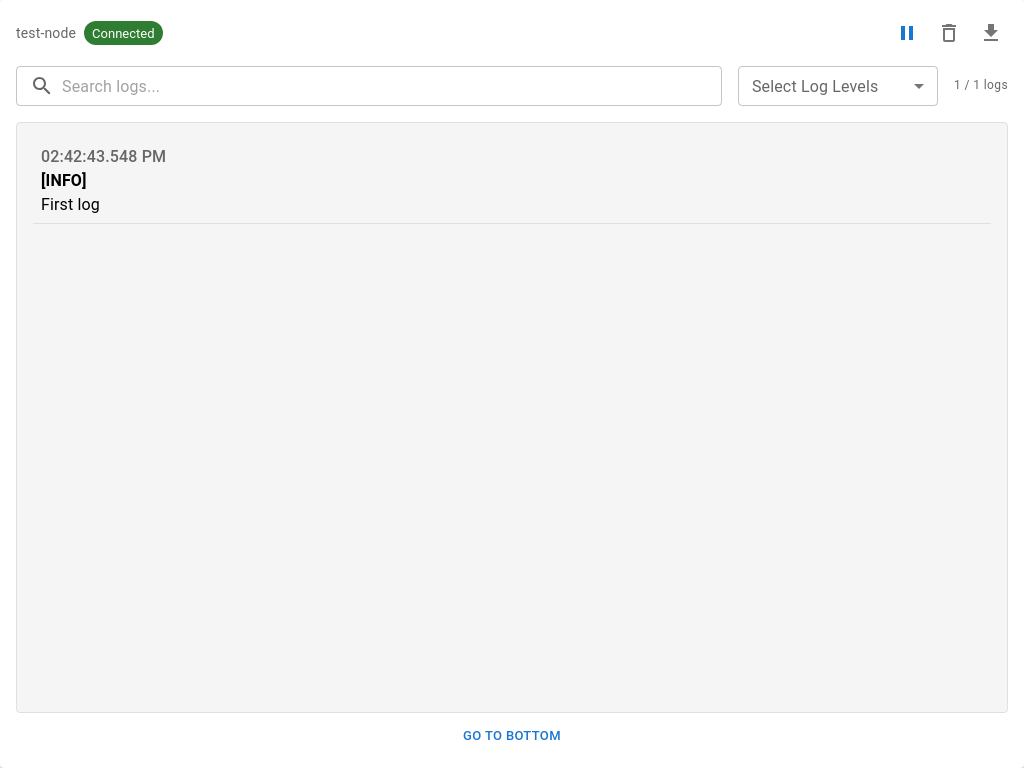
Scenario: LogsViewer › Log streaming and pause/resume › pauses and resumes streaming - covers abort during reading
The width and height of the screenshot is (1024, 768).
Expected: the text "First log" is shown, [41,195,100,214]
Click the button named "pause" at (907,33), box [890,16,924,50]
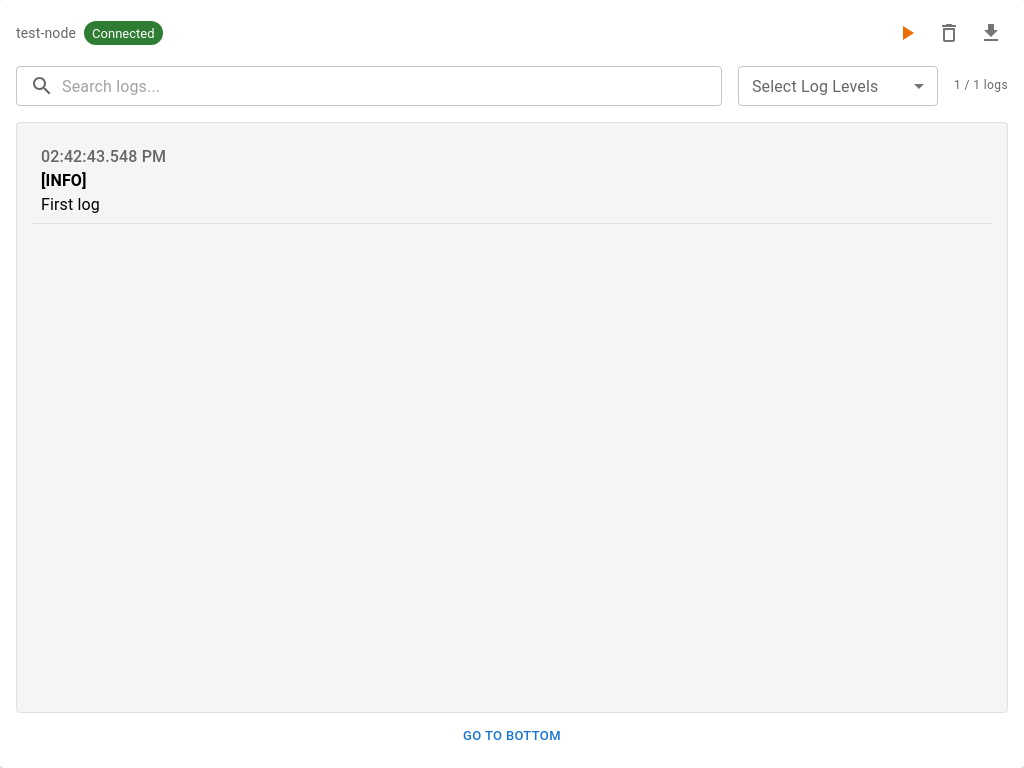
Expected: the button named "resume" is shown
Click the button named "resume" at (907,33), box [890,16,924,50]
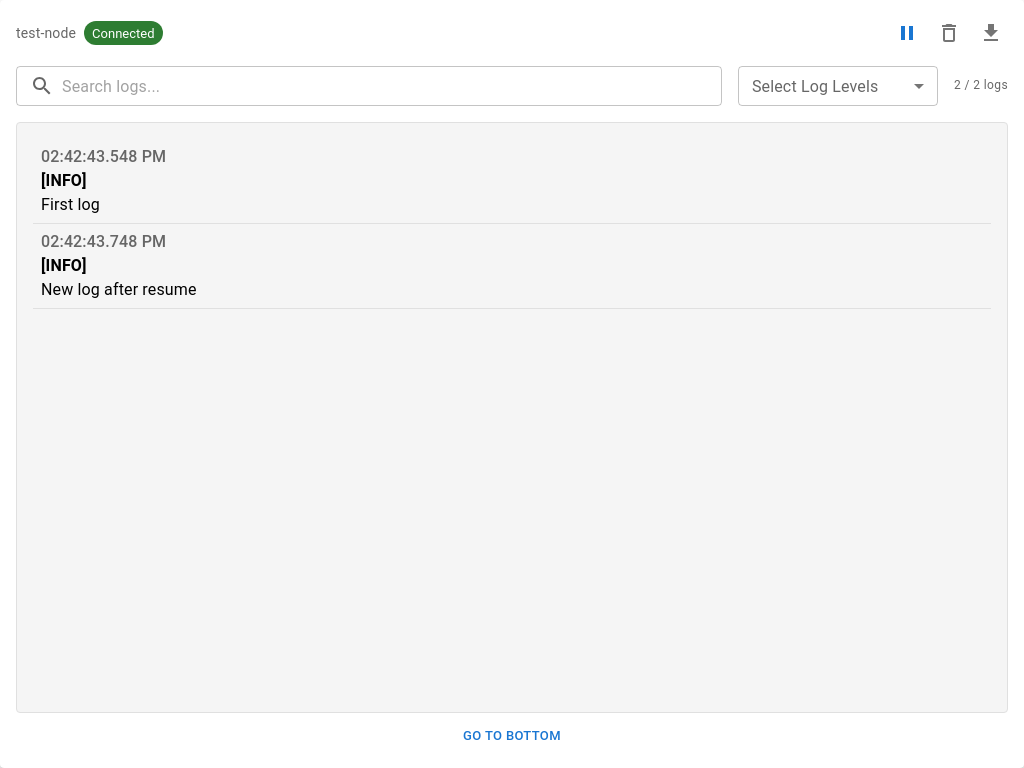
Expected: the text "New log after resume" is shown, [41,280,197,299]
